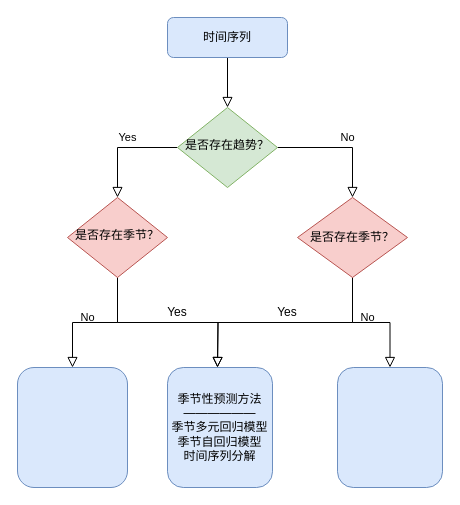
Some shapes in this 460 by 505 pixel diagram are drawn without their labels. The box of each missing label's shape, as (x1, y1, x2, y2) in pixels:
平滑法预测 —————— 简单平均法 移动平均法 指数平滑法: (16, 366, 128, 488)
趋势预测方法 —————— 线性趋势预测 非线性趋势预测 自回归预测模型: (336, 366, 442, 488)
